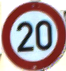20 km speed: (1, 1, 66, 70)
